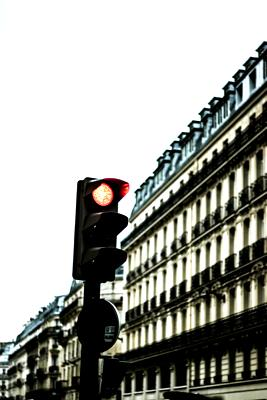International Road Signal Light: (73, 178, 130, 283)
